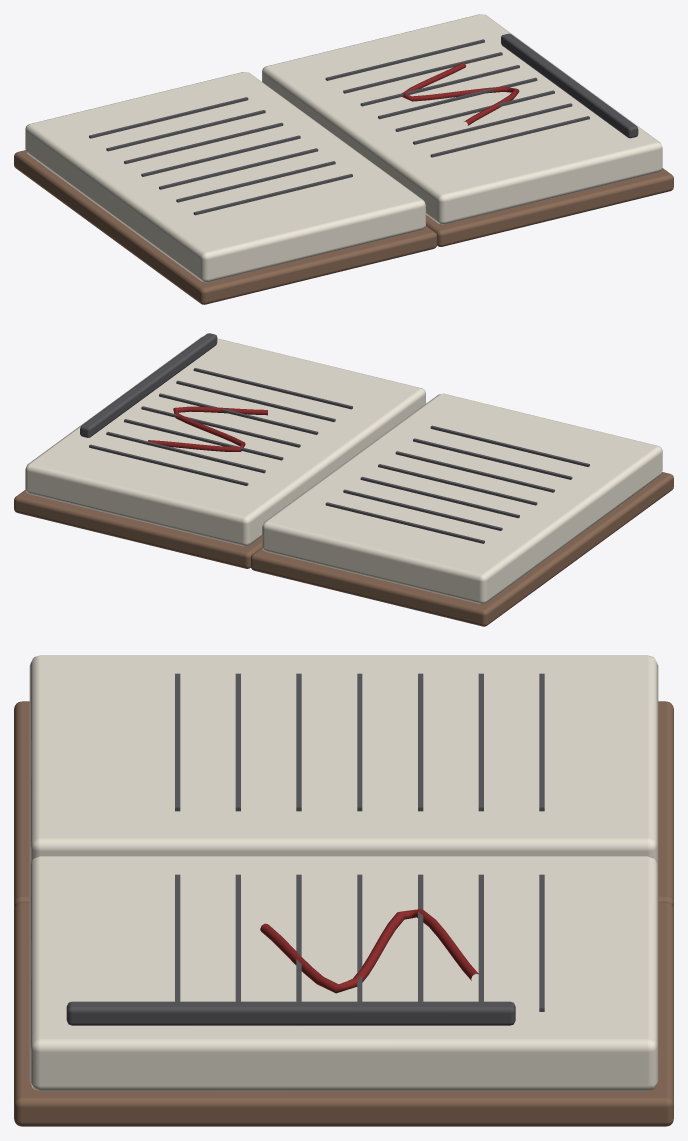
The model's file is paranormal-investigation-house-ghost-writing-book-9503513d__26798.glb.
3 renders of one model, top to bottom at view 1: azimuth 30°, elevation 25°; view 2: azimuth 150°, elevation 25°; view 3: azimuth 270°, elevation 25°, orthographic. The views are drawn at different scales.
Visible parts, largest first — view 1: ghost-writing-book; view 2: ghost-writing-book; view 3: ghost-writing-book.
Part boxes in pixels (box(x1,y1,x2,y2)): ghost-writing-book: box(14, 14, 673, 304); ghost-writing-book: box(14, 333, 673, 626); ghost-writing-book: box(14, 655, 673, 1126).
Size of the model in its own units: 0.36 by 0.043 by 0.25.
